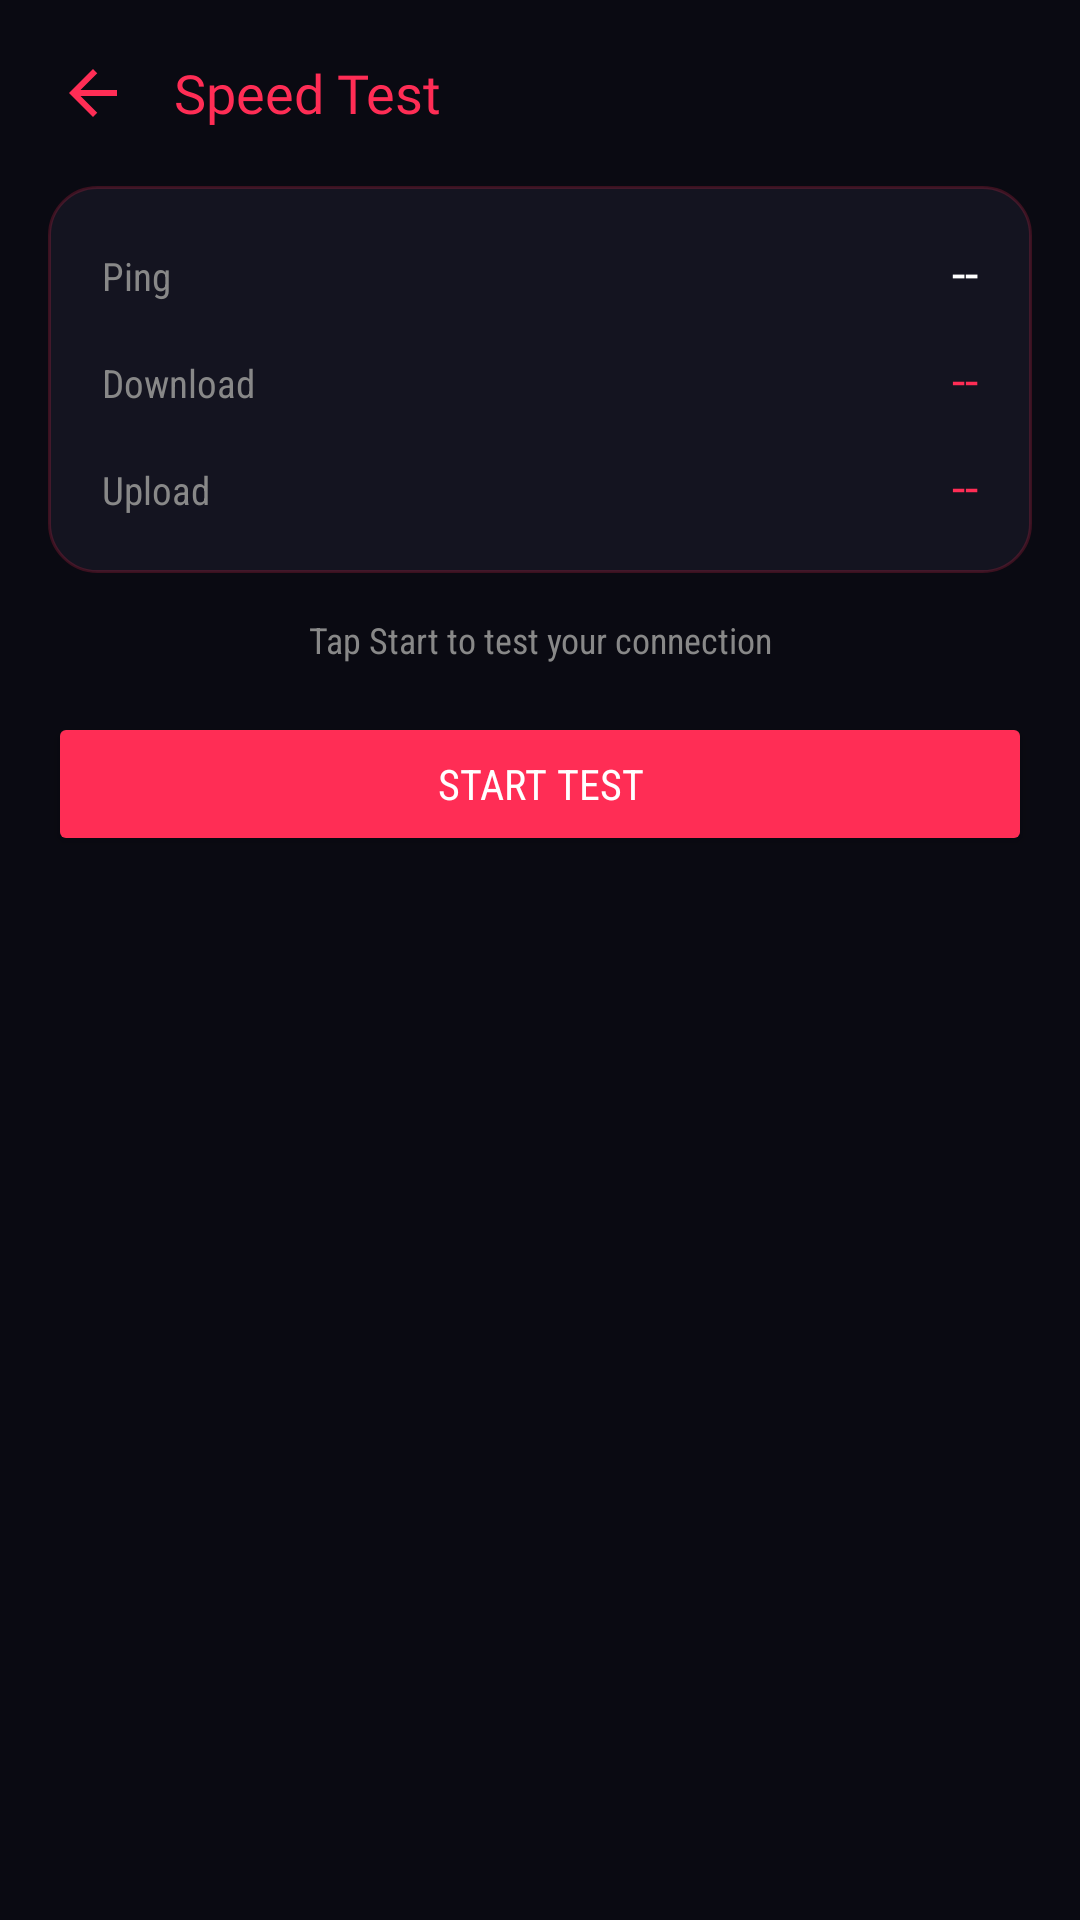

Icons on this 1080px x 1920px Android screen, each with the point to tap as point (x, y):
Back: point (93, 93)
